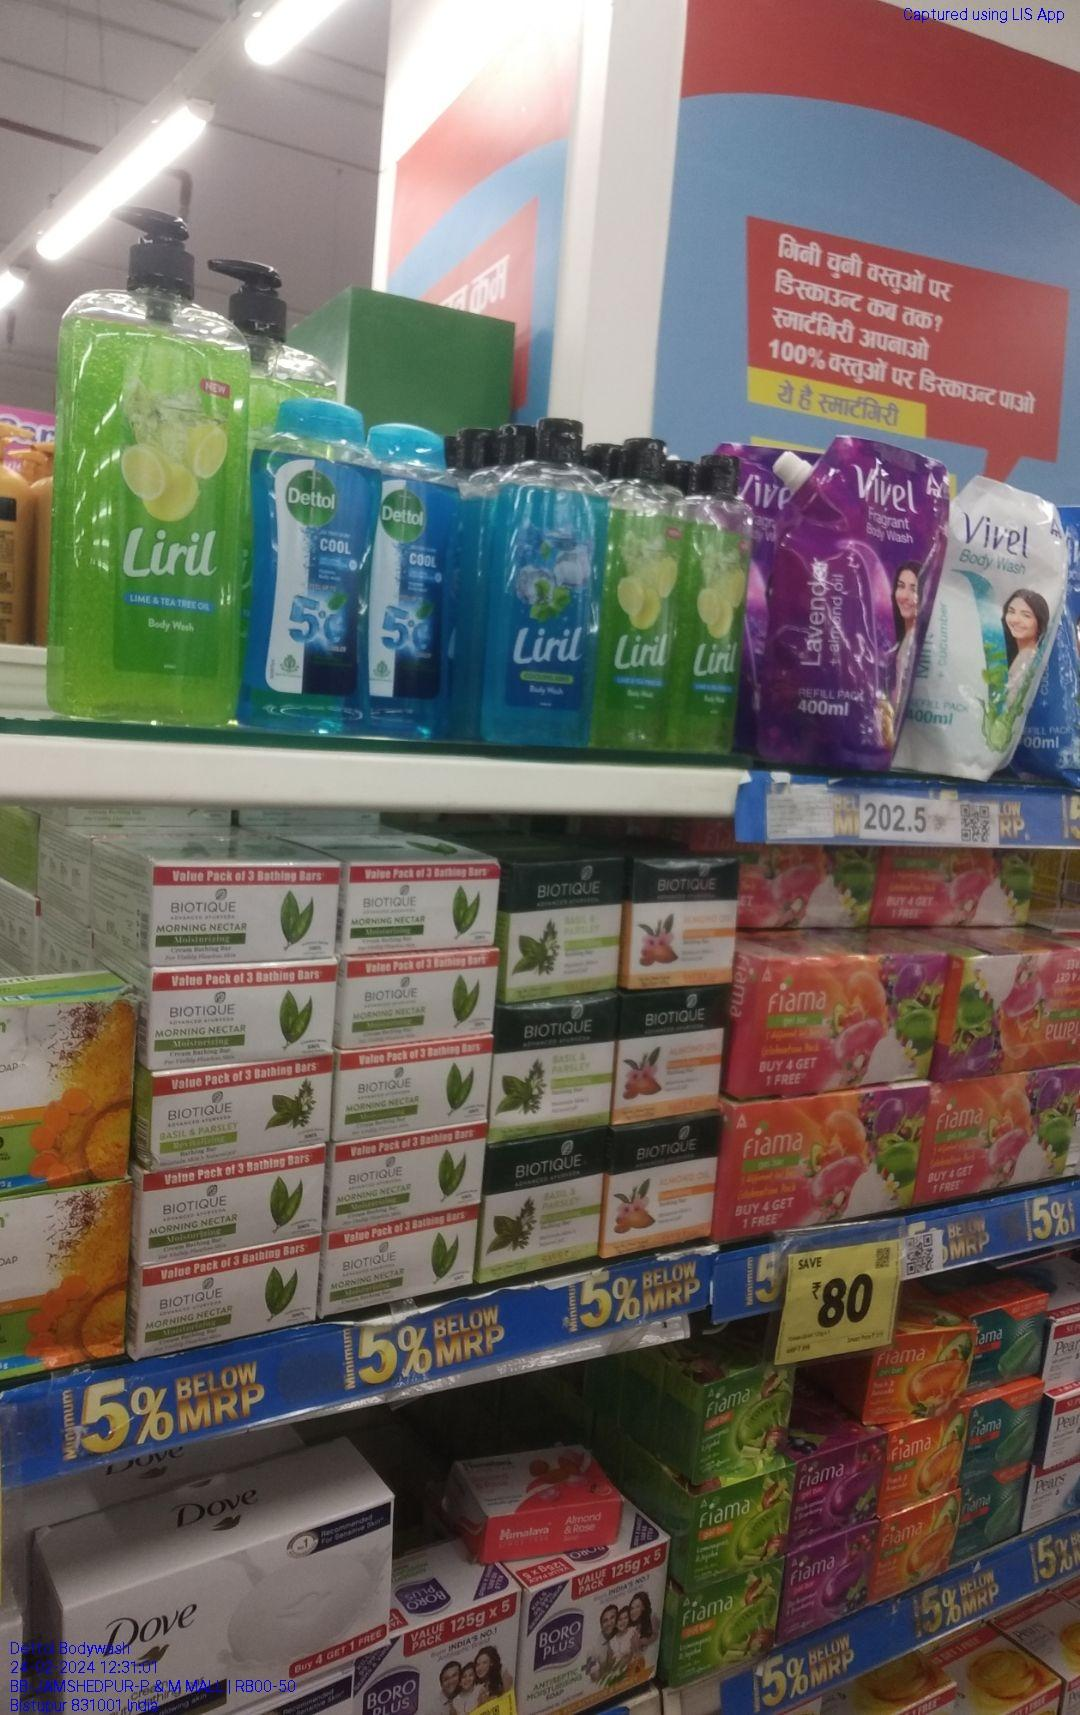Dettol_Bodywash_Cool: (259, 397, 378, 733), (382, 422, 465, 734)
